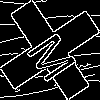M: (25, 25, 86, 85)
